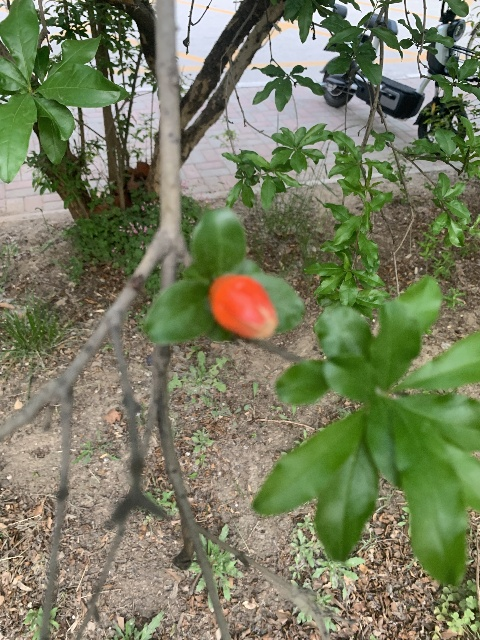bud: (208, 273, 279, 340)
